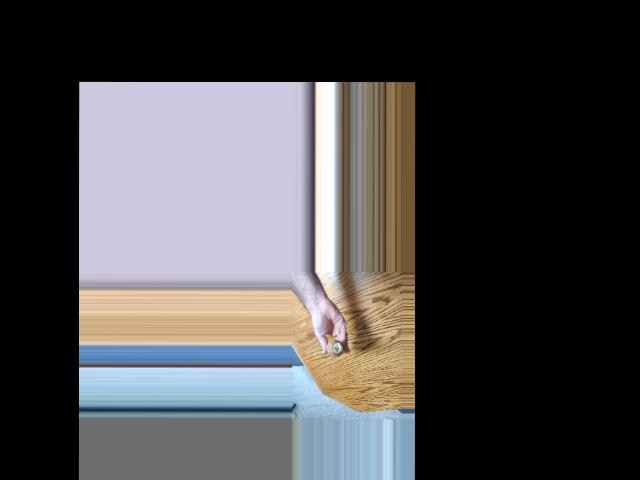sweet_potato: (324, 342, 342, 357)
